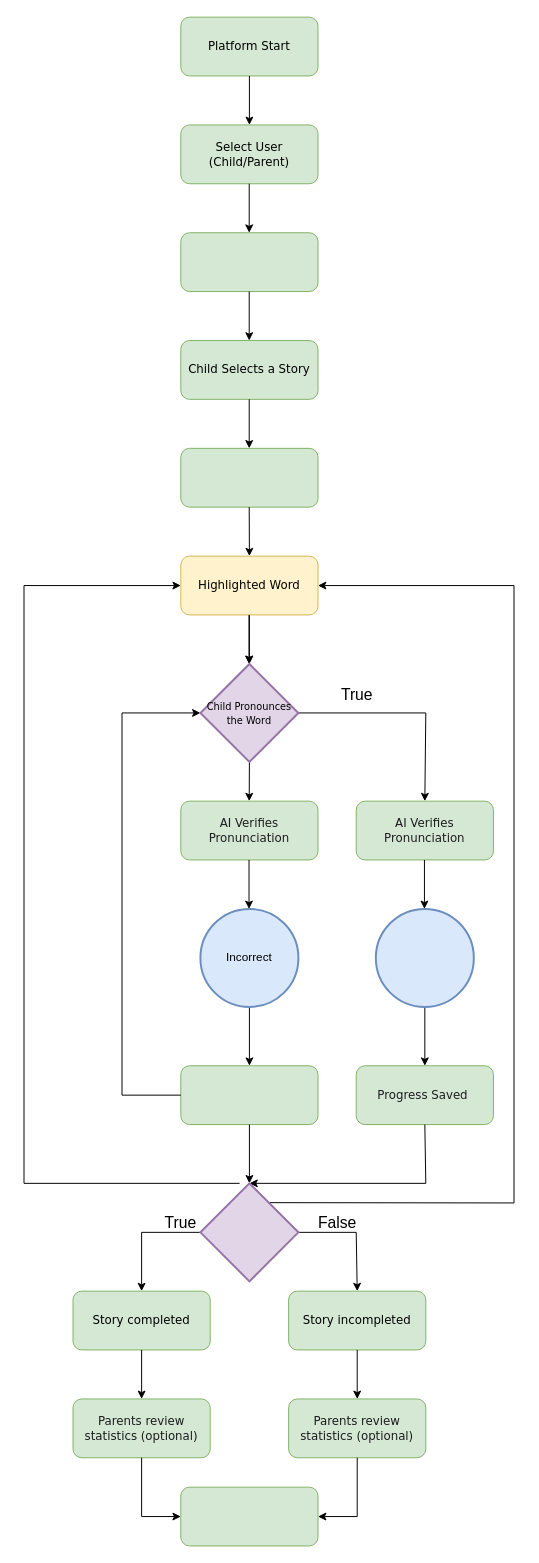
This 539x1563 diagram has some shape labels left out. Each missing label, with the box of its shape:
Begins Reading Aloud: (180, 447, 318, 507)
Continues reading: (199, 1182, 299, 1282)
Correct: (374, 907, 474, 1007)
Log In or Create Account: (180, 232, 318, 292)
Progress Saved - Feedback and Retry: (180, 1065, 318, 1125)
Select o ther story to read: (180, 1486, 318, 1546)
